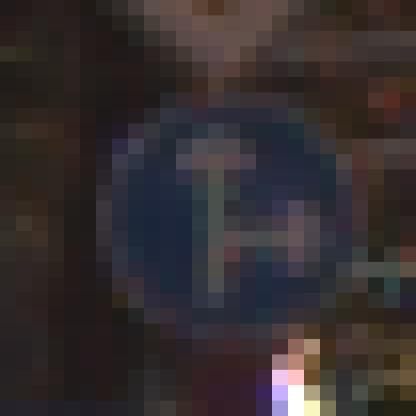Straight or Right: (97, 94, 337, 325)
